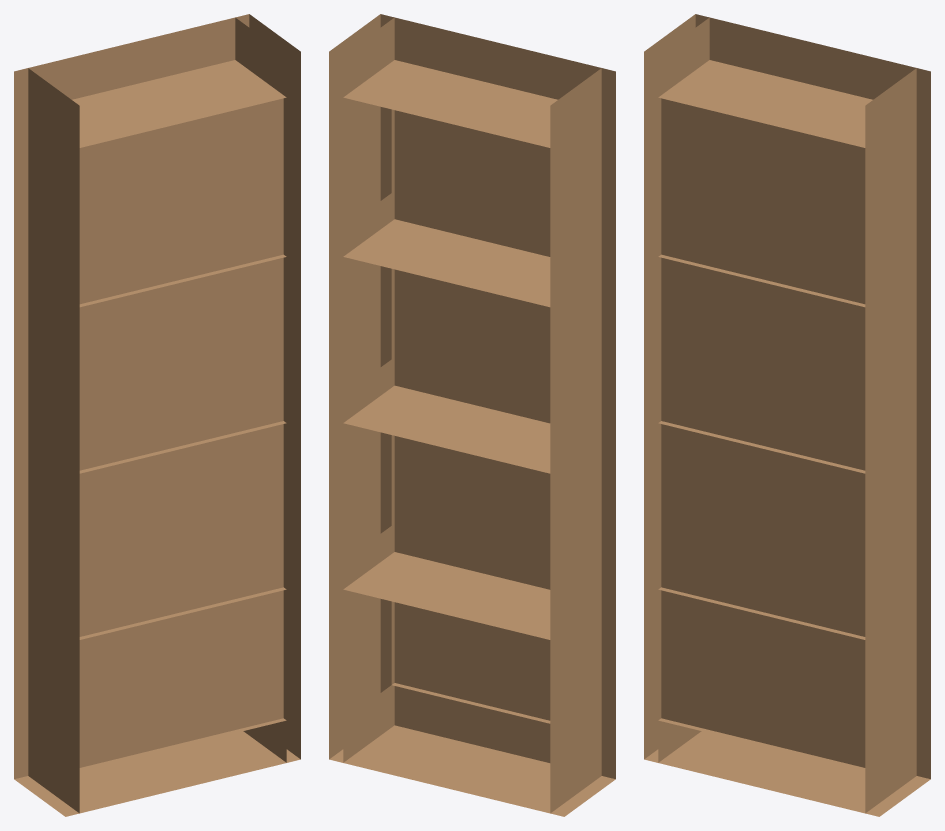
File: wayfair-ebern-oak.glb
3 views of the same model, side by side, from view 1: azimuth 30°, elevation 25°; view 2: azimuth 150°, elevation 25°; view 3: azimuth 330°, elevation 25° (orthographic).
Parts seen in each view (by area): view 1: wayfair-ebern-oak; view 2: wayfair-ebern-oak; view 3: wayfair-ebern-oak.
Boxes of the visible parts, x1,y1,x2,y2 form: wayfair-ebern-oak: [14, 14, 300, 816]; wayfair-ebern-oak: [329, 14, 615, 816]; wayfair-ebern-oak: [644, 14, 930, 816].
Bounding box in the file's own units: 0.61 × 1.75 × 0.231.
